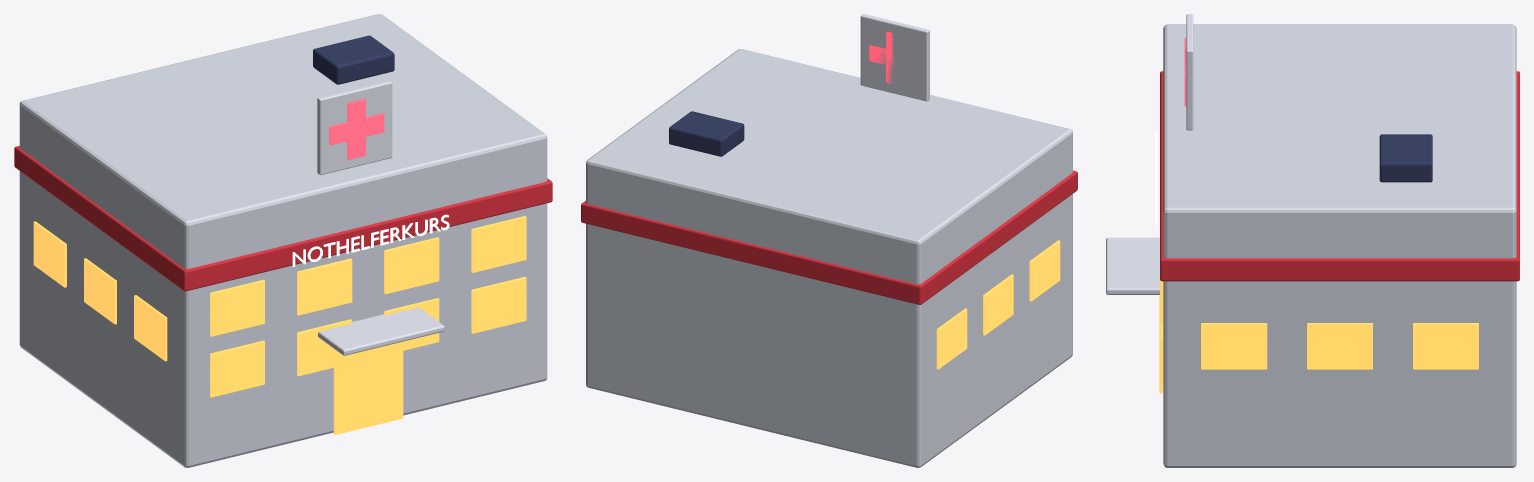
Rendered from nothelfer.glb.
The picture shows the model from 3 angles, left to right: view 1: azimuth 30°, elevation 25°; view 2: azimuth 150°, elevation 25°; view 3: azimuth 270°, elevation 25°; orthographic projection. The views are drawn at different scales.
Visible parts, largest first — view 1: nh-block, nh-band, nh-door, nh-cross-back, nh-canopy, nh-ac, nh-win-b2, nh-win-b3, nh-win-a3, nh-win-b1, nh-win-a0, nh-win-b0 (+8 smaller); view 2: nh-block, nh-band, nh-cross-back, nh-ac, nh-win-l0, nh-win-l2, nh-win-l1; view 3: nh-block, nh-band, nh-win-r0, nh-canopy, nh-win-r1, nh-win-r2, nh-ac, nh-cross-back.
Boxes of the visible parts, x1,y1,x2,y2 form: nh-block: [19, 14, 547, 467]; nh-band: [14, 146, 552, 291]; nh-door: [333, 341, 403, 434]; nh-cross-back: [317, 80, 392, 175]; nh-canopy: [318, 307, 444, 355]; nh-ac: [313, 35, 394, 84]; nh-win-b2: [384, 237, 439, 294]; nh-win-b3: [471, 216, 526, 272]; nh-win-a3: [471, 276, 526, 333]; nh-win-b1: [297, 258, 352, 315]; nh-win-a0: [210, 340, 264, 397]; nh-win-b0: [210, 279, 264, 336]; nh-block: [586, 49, 1072, 467]; nh-band: [581, 170, 1077, 304]; nh-cross-back: [860, 14, 929, 101]; nh-ac: [669, 111, 744, 156]; nh-win-l0: [1029, 240, 1060, 301]; nh-win-l2: [936, 308, 967, 369]; nh-win-l1: [983, 274, 1013, 335]; nh-block: [1163, 24, 1516, 467]; nh-band: [1160, 71, 1519, 281]; nh-win-r0: [1201, 323, 1267, 369]; nh-canopy: [1106, 237, 1159, 294]; nh-win-r1: [1307, 323, 1372, 369]; nh-win-r2: [1413, 323, 1478, 369]; nh-ac: [1379, 134, 1432, 182]; nh-cross-back: [1186, 14, 1193, 130].
Bounding box in the file's own units: 10.15 × 8.6 × 9.38.
